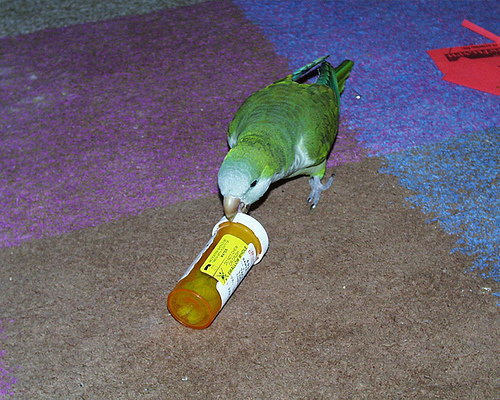pill bottle: (167, 211, 270, 332)
